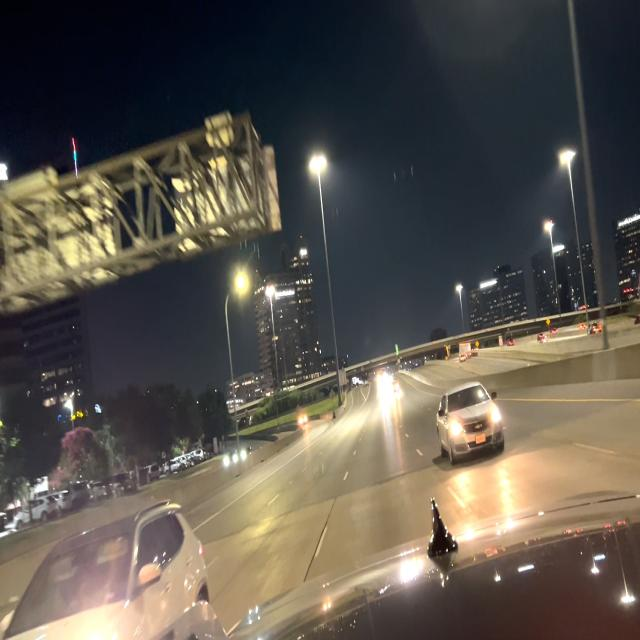back-of-sign: (0, 162, 120, 317), (172, 110, 283, 256)
